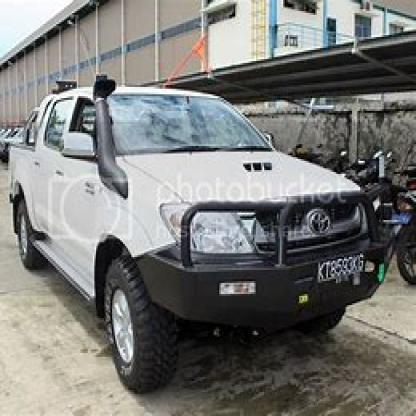light_vehicle: (6, 80, 394, 390)
